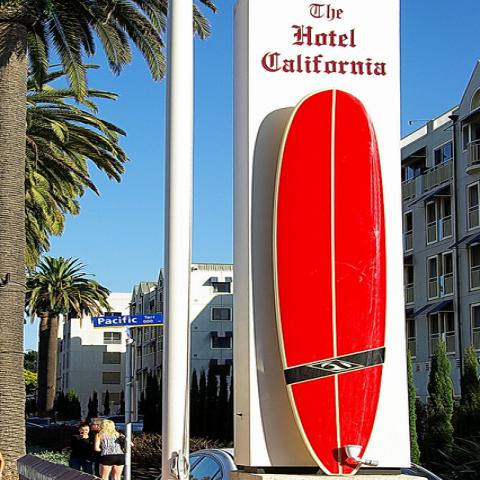car: (189, 448, 244, 480), (105, 415, 143, 433), (58, 419, 82, 433)
